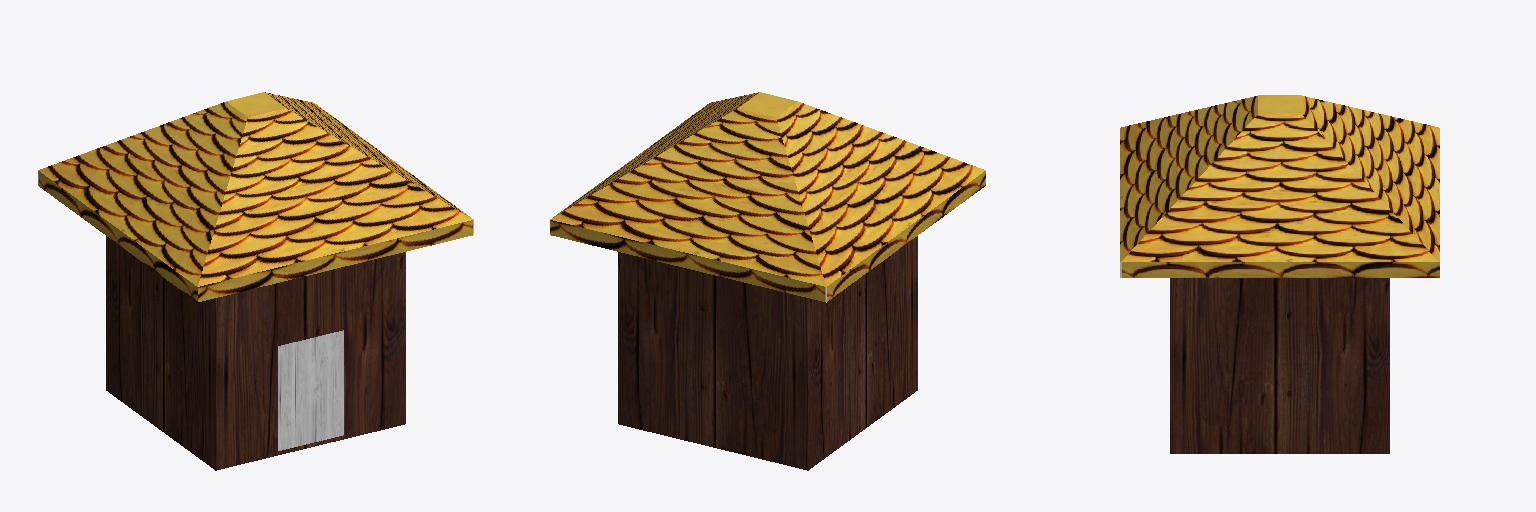
The picture shows the model from 3 angles: view 1: azimuth 30°, elevation 25°; view 2: azimuth 150°, elevation 25°; view 3: azimuth 270°, elevation 25°; orthographic projection.
Size of the model in its own units: 12.49 by 13.06 by 12.49.
Materials: 1 (1 with a texture image).